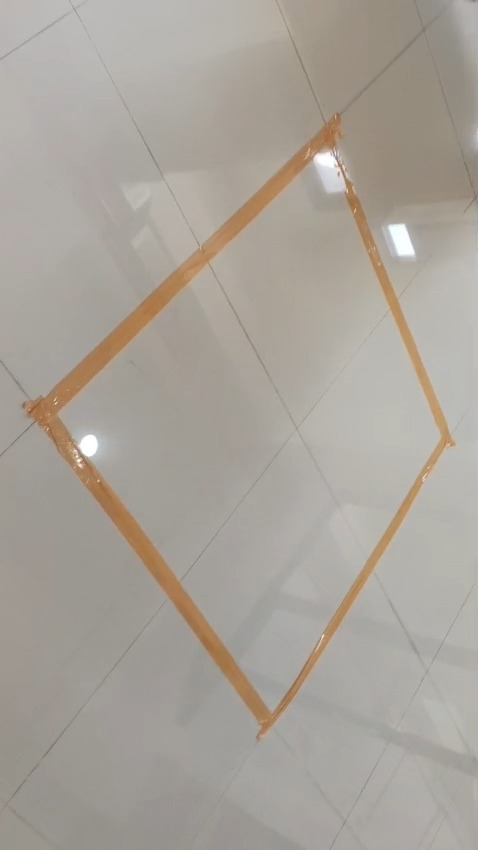floor marking: (24, 115, 454, 737)
